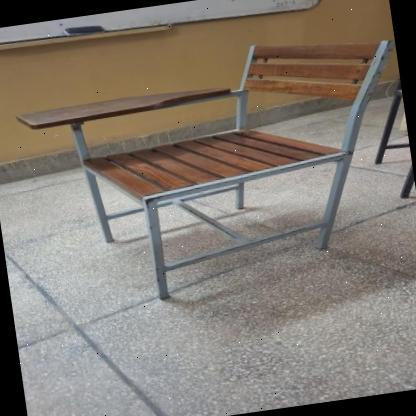chair: (4, 15, 416, 325)
